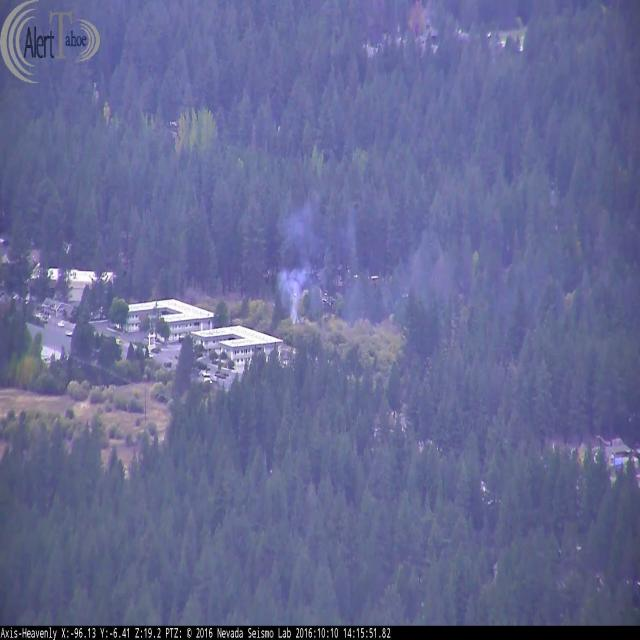smoke: (277, 184, 336, 328)
